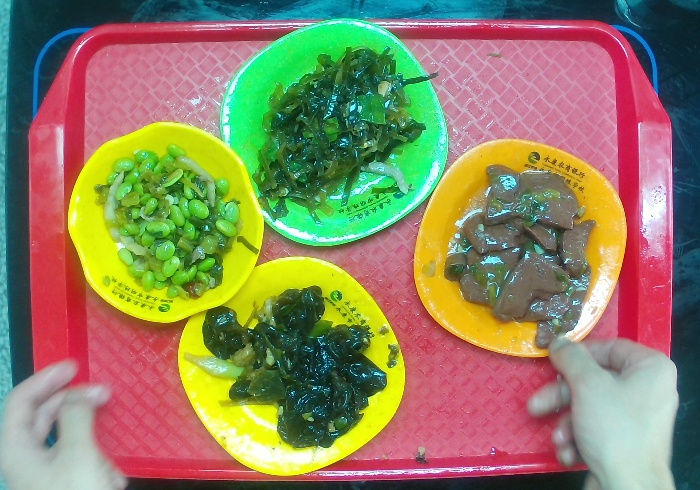YKMZ-Huang_Se_Ao_Bian_Wan: (54, 117, 268, 325)
YKMZ-Huang_Se_Fang_Die: (173, 250, 413, 482)
YKMZ-Ju_Se_Fang_Die: (408, 131, 637, 364)
YKMZ-Lv_Se_Fang_Die: (216, 15, 453, 258)
